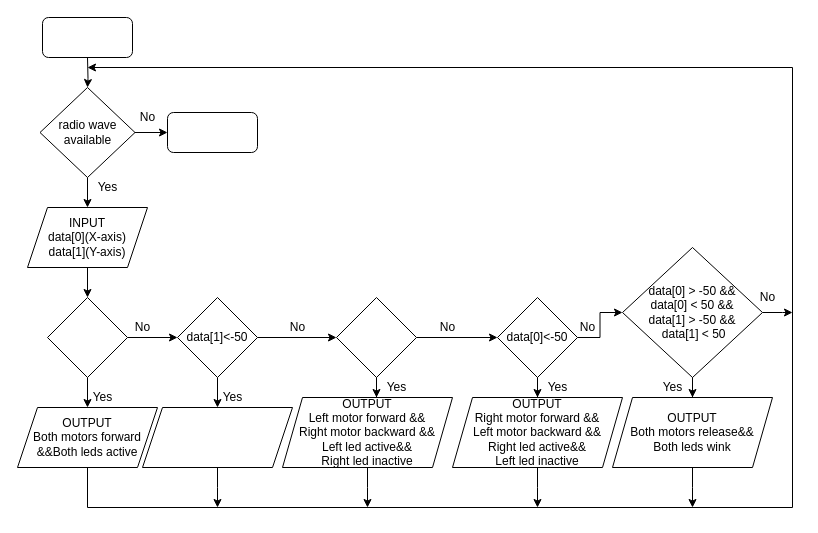
Image size: 818x533. Some labels were removed from this diagram. The box of each missing label's shape, as (x1, y1, x2, y2) in pixels:
data[0]>50: (336, 296, 416, 378)
data[1]>50: (46, 296, 128, 378)
OUTPUT Boths motor backward &&Both leds active: (142, 406, 292, 468)
Start: (42, 16, 132, 58)
Stop: (166, 112, 258, 152)
